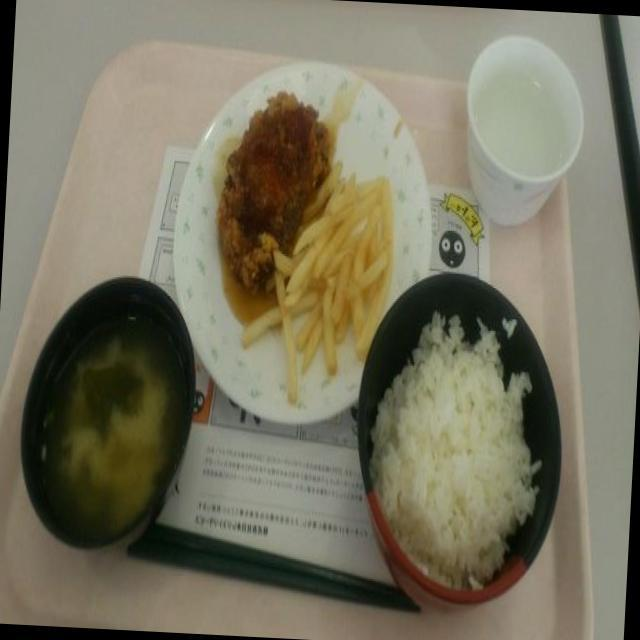Rice: (370, 303, 540, 580)
